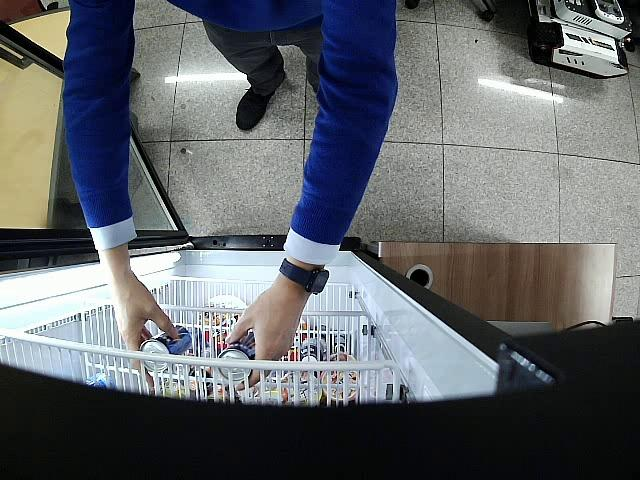00_hand: (105, 267, 177, 387), (226, 291, 307, 391)
16_hot6: (139, 325, 192, 373), (218, 332, 255, 381)
